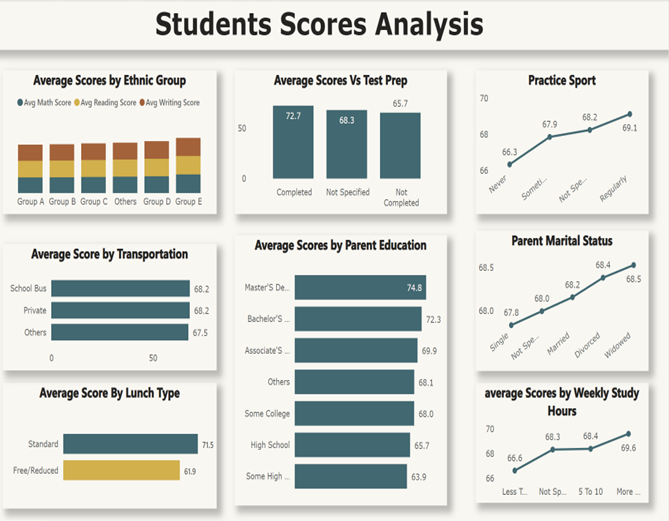

The page's visual inventory and layout, read from the dashboard file:
{"tool":"powerbi","page":{"name":"Analysis ","canvas":[1280,720],"ordinal":1},"visuals":[{"type":"lineStackedColumnComboChart","title":"Average Scores by Ethnic Group","fields":{"Category":["Students Scores.Ethnic Group"],"Y":["Table.Avg Math Score","Table.Avg Reading Score","Table.Avg Writing Score"]},"box":[59.6,96.9,392,198.9],"z":0},{"type":"clusteredBarChart","title":"Average  Scores by Parent Education","fields":{"Category":["Students Scores.Parent Education"],"Y":["Avg(Students Scores.Total average)"]},"box":[484.9,325.2,388.7,374.3],"z":1000},{"type":"barChart","title":"Average Score By Lunch Type","fields":{"Category":["Students Scores.LunchType"],"Y":["Avg(Students Scores.Total average)"]},"box":[59.6,529.4,392,174.1],"z":2000},{"type":"lineChart","title":"average  Scores by Weekly Study Hours","fields":{"Category":["Students Scores.Weekly Study Hours"],"Y":["Avg(Students Scores.Total average)"]},"box":[926,529.4,316.7,165.6],"z":3000},{"type":"lineChart","title":"Practice Sport","fields":{"Category":["Students Scores.Practice Sport"],"Y":["Avg(Students Scores.Total average)"]},"box":[926,96.9,316.7,198.9],"z":4000},{"type":"textbox","box":[0,0,1280,69.4],"z":5000},{"type":"columnChart","title":"Average Scores Vs Test Prep ","fields":{"Category":["Students Scores.Test Prep"],"Y":["Avg(Students Scores.Total average)"]},"box":[484.9,96.9,388.7,198.9],"z":6000},{"type":"clusteredBarChart","title":"Average Score by Transportation","fields":{"Category":["Students Scores.Transportion"],"Y":["Avg(Students Scores.Total average)"]},"box":[59.6,337,392,174.7],"z":7000},{"type":"lineChart","title":"Parent Marital Status","fields":{"Category":["Students Scores.Parent Marital Status"],"Y":["Avg(Students Scores.Total average)"]},"box":[926,318.7,316.7,193.7],"z":8000}]}

Visuals, with their boxes on the page's 1280x720 design canvas (x1, y1, x2, y2). These are canvas units, not pixel positions in the 669x521 screenshot, which may show the page scaled, cropped or inside an application window:
"Average Scores by Ethnic Group" lineStackedColumnComboChart: pyautogui.locateOnScreen(60, 97, 452, 296)
"Average  Scores by Parent Education" clusteredBarChart: pyautogui.locateOnScreen(485, 325, 874, 700)
"Average Score By Lunch Type" barChart: pyautogui.locateOnScreen(60, 529, 452, 704)
"average  Scores by Weekly Study Hours" lineChart: pyautogui.locateOnScreen(926, 529, 1243, 695)
"Practice Sport" lineChart: pyautogui.locateOnScreen(926, 97, 1243, 296)
textbox: pyautogui.locateOnScreen(0, 0, 1280, 69)
"Average Scores Vs Test Prep " columnChart: pyautogui.locateOnScreen(485, 97, 874, 296)
"Average Score by Transportation" clusteredBarChart: pyautogui.locateOnScreen(60, 337, 452, 512)
"Parent Marital Status" lineChart: pyautogui.locateOnScreen(926, 319, 1243, 512)
